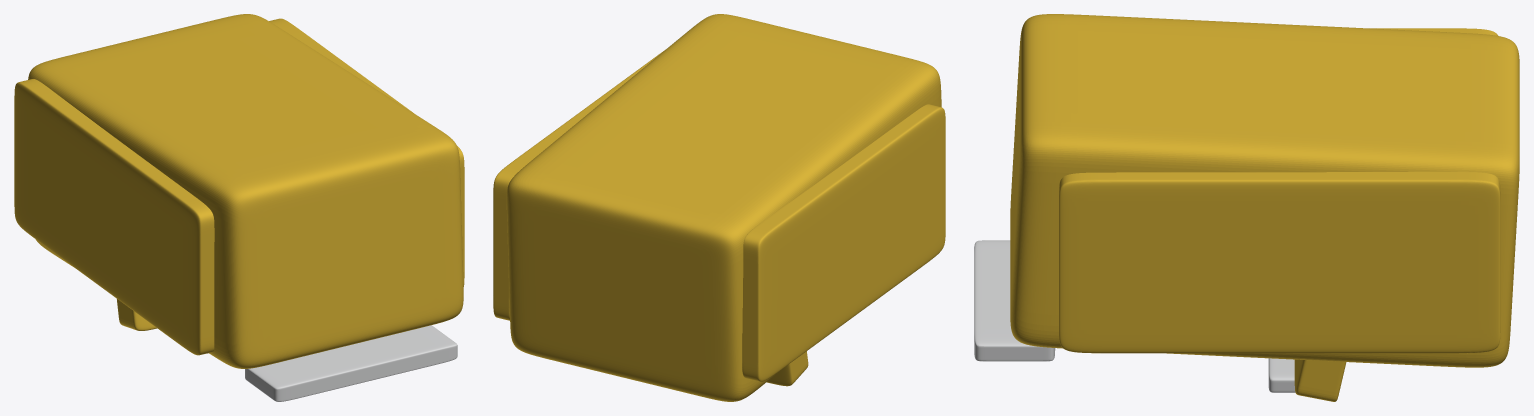
Rendered from arcade_cabinet_sq.glb.
The picture shows the model from 3 angles, left to right: view 1: azimuth 30°, elevation 25°; view 2: azimuth 150°, elevation 25°; view 3: azimuth 270°, elevation 25°; orthographic projection. The views are drawn at different scales.
Visible parts, largest first — view 1: superquadric_0, superquadric_6, superquadric_2, superquadric_7, superquadric_3; view 2: superquadric_0, superquadric_6, superquadric_7, superquadric_3; view 3: superquadric_0, superquadric_7, superquadric_2, superquadric_3, superquadric_5.
Boxes of the visible parts, x1,y1,x2,y2 form: superquadric_0: [28, 14, 463, 368]; superquadric_6: [14, 79, 214, 355]; superquadric_2: [245, 325, 457, 401]; superquadric_7: [269, 18, 464, 286]; superquadric_3: [117, 299, 157, 330]; superquadric_0: [506, 14, 941, 401]; superquadric_6: [742, 104, 945, 381]; superquadric_7: [493, 49, 665, 320]; superquadric_3: [767, 351, 808, 386]; superquadric_0: [1010, 14, 1519, 367]; superquadric_7: [1059, 171, 1500, 353]; superquadric_2: [974, 240, 1055, 361]; superquadric_3: [1294, 359, 1346, 401]; superquadric_5: [1268, 358, 1295, 392].
Size of the model in its own units: 0.6693 by 0.5842 by 1.
